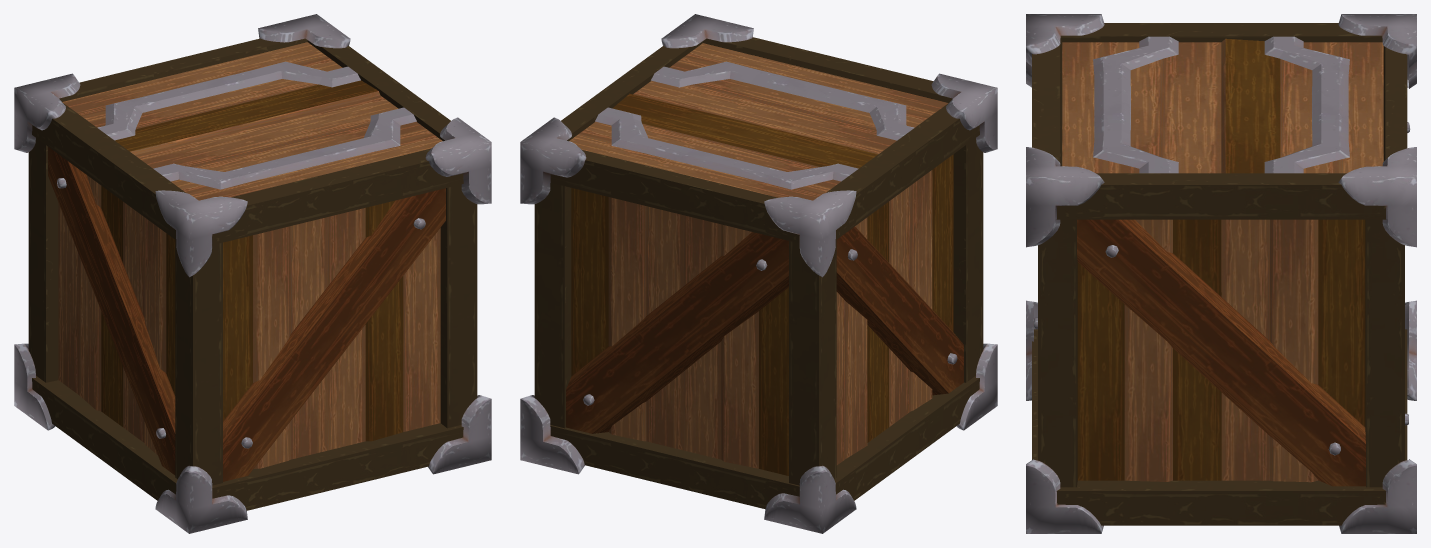
The model's file is Crate_Metal.gltf.
3 renders of one model, left to right at view 1: azimuth 30°, elevation 25°; view 2: azimuth 150°, elevation 25°; view 3: azimuth 270°, elevation 25°, orthographic. The views are drawn at different scales.
Visible parts, largest first — view 1: Crate_Metal; view 2: Crate_Metal; view 3: Crate_Metal.
Part boxes in pixels (bbox=[...]): Crate_Metal: bbox=[14, 14, 491, 533]; Crate_Metal: bbox=[520, 14, 997, 533]; Crate_Metal: bbox=[1026, 14, 1416, 533].
Size of the model in its own units: 0.8639 by 0.8679 by 0.8659.
2 materials, 2 textured.
